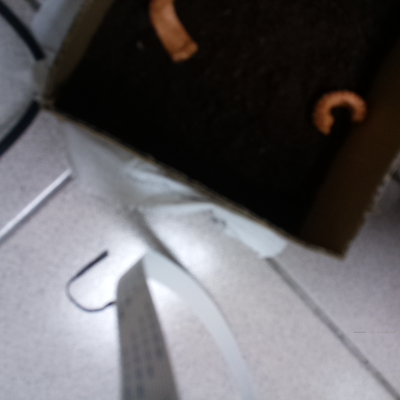eggs: (138, 1, 210, 71), (306, 84, 369, 142)
